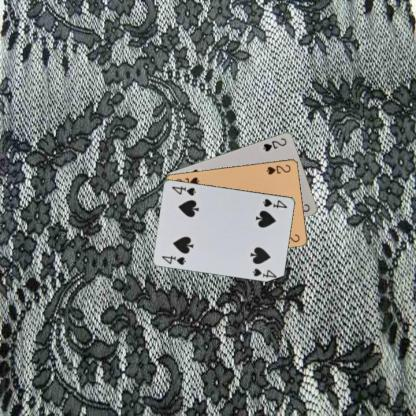2s: (261, 135, 288, 153), (263, 162, 292, 176)
4s: (160, 252, 187, 266), (261, 196, 288, 209)
